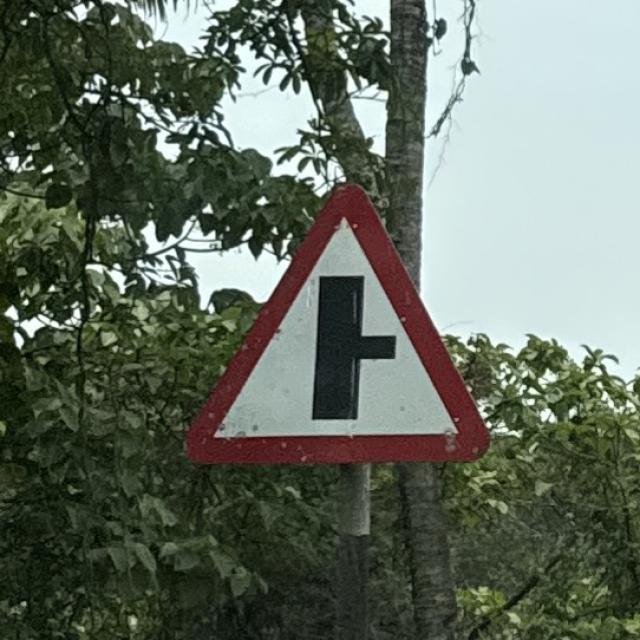SIDE_ROAD_RIGHT: (157, 172, 500, 476)
